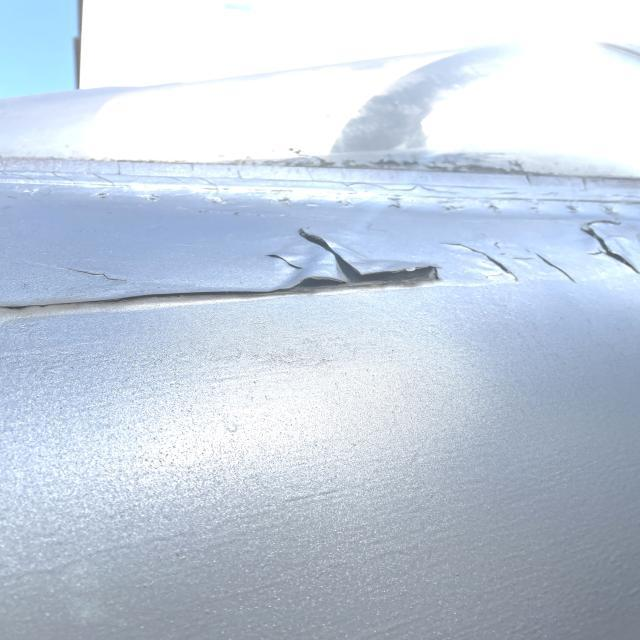crack: (465, 242, 570, 294), (268, 256, 314, 278), (79, 265, 138, 280)
